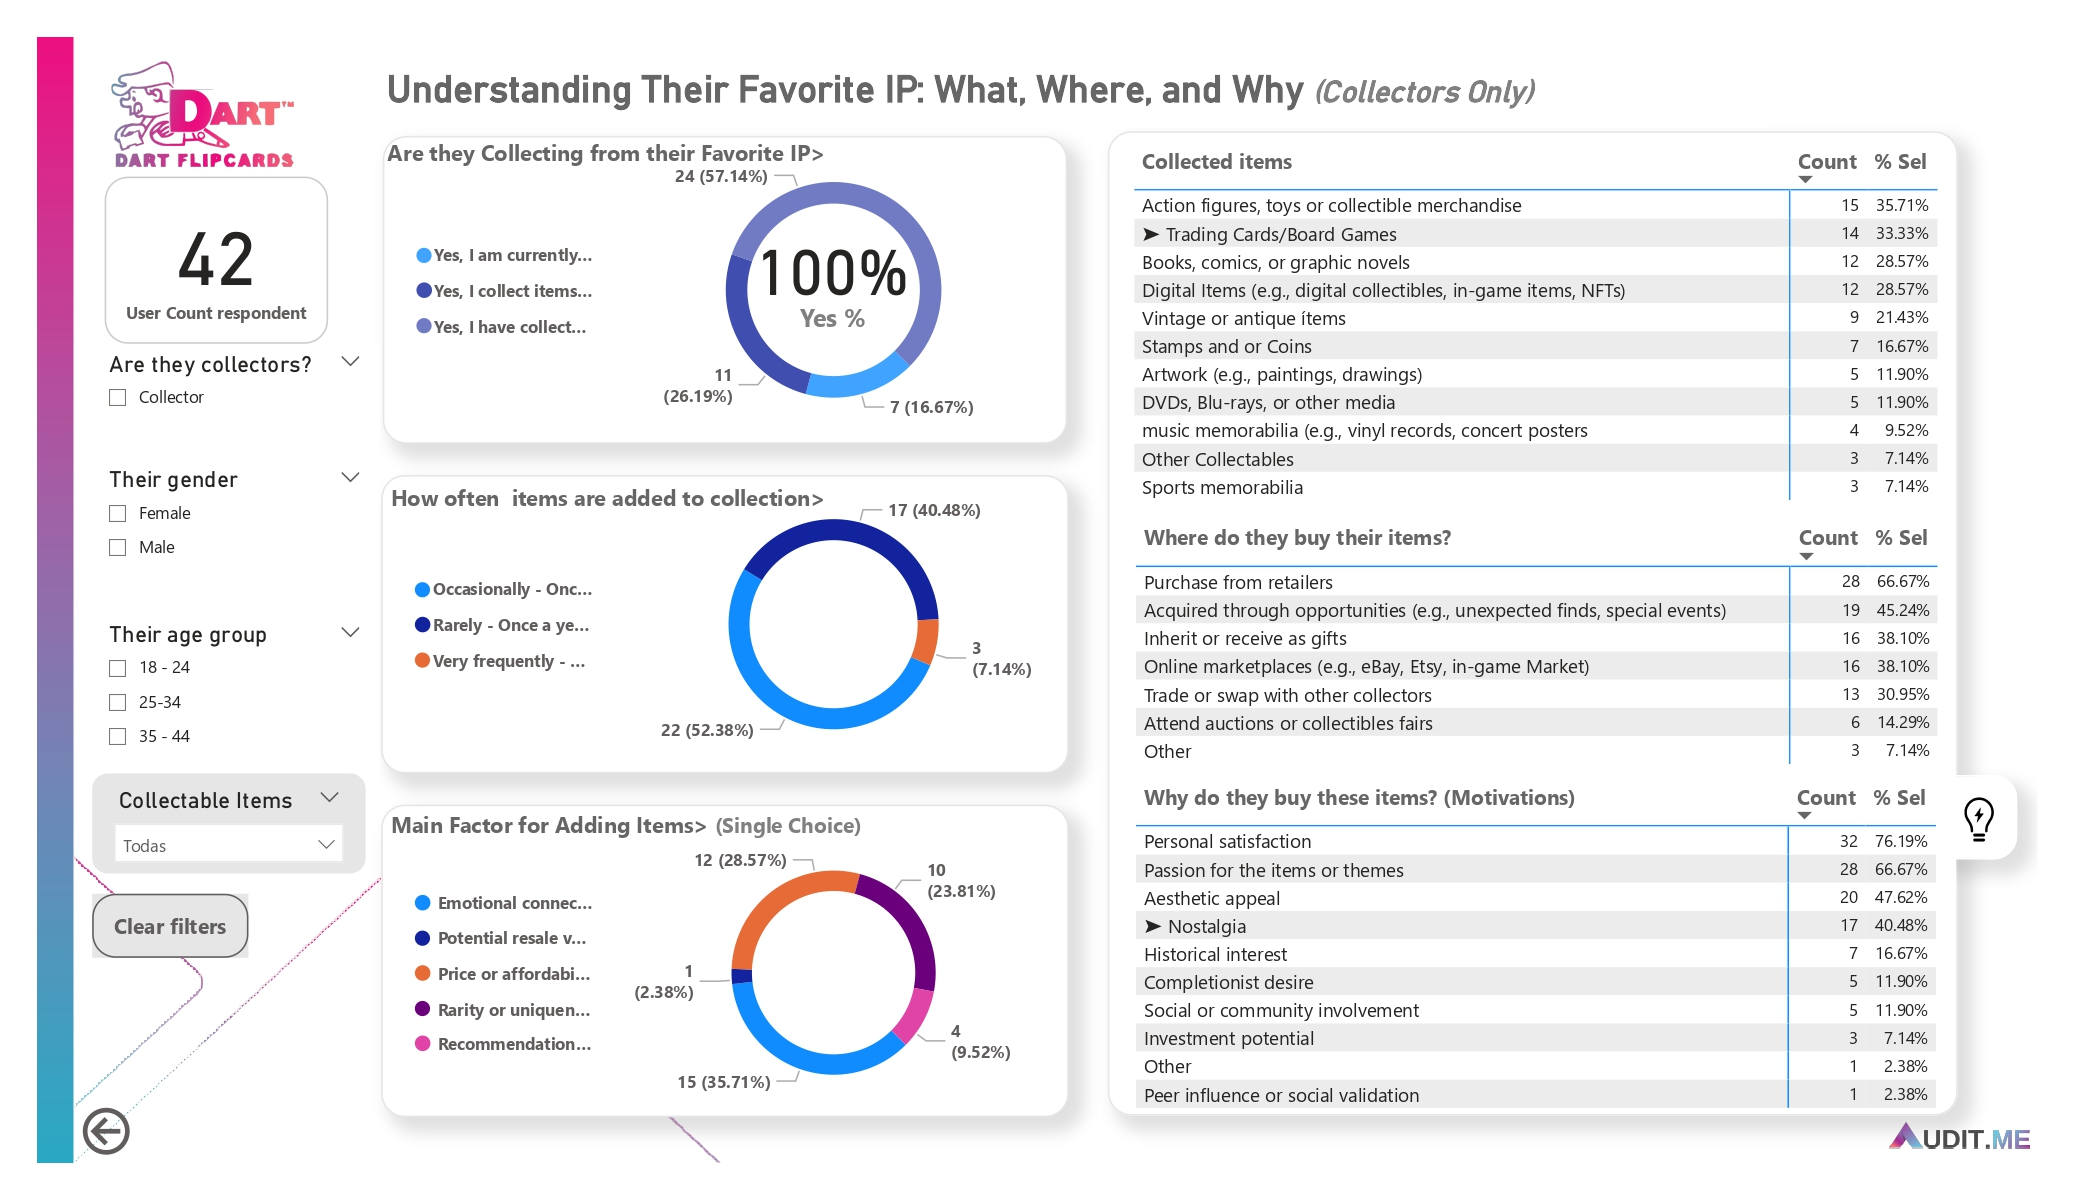

The page's visual inventory and layout, read from the dashboard file:
{"tool":"powerbi","page":{"name":"What/How/Why they Collect","canvas":[1280,720],"ordinal":3},"visuals":[{"type":"donutChart","fields":{"Y":["CountNonNull(Raw Data-Original.Have you ever engaged in collecting items or objects? If so, please select the option tha"],"Series":["Raw Data-Original.Have you ever engaged in collecting items or objects? If so, please select the option that best descri"]},"box":[221.4,62.9,437.1,197.1],"z":0},{"type":"donutChart","fields":{"Series":["Raw Data-Original.Q21-frequency of adding"],"Y":["CountNonNull(Raw Data-Original.Q21-frequency of adding)"]},"box":[220,280,440,191.4],"z":1000},{"type":"shape","box":[684.5,59.5,544.1,631],"z":2000},{"type":"slicer","fields":{"Values":["Raw Data-Original.Gender"]},"box":[32.5,270,186.2,98.8],"z":3000},{"type":"slicer","fields":{"Values":["Raw Data-Original.Q2-Age Group"]},"box":[32.5,368.8,186.2,116.2],"z":4000},{"type":"slicer","fields":{"Values":["Raw Data-Original.Collector habits"]},"box":[32.5,196.2,186.2,73.8],"z":5000},{"type":"actionButton","box":[23.8,680,100,40],"z":6000},{"type":"card","fields":{"Values":["Raw Data-Original.User Count respondent"]},"box":[42.5,89.5,143.8,106.2],"z":7000},{"type":"image","box":[1180,683.8,100,36.2],"z":8000},{"type":"textbox","box":[219,14.3,889.3,44],"z":9000},{"type":"image","box":[0,0,210,97.5],"z":10000},{"type":"textbox","box":[218.8,58.8,353.8,31.2],"z":11000},{"type":"actionButton","box":[34.5,547.6,100,41.7],"z":12000},{"type":"pivotTable","fields":{"Rows":["Raw Data.Collected items"],"Values":["Raw Data.Count what collect","Raw Data.Buy %"]},"box":[697.1,64.3,531.4,244.3],"z":13000},{"type":"pivotTable","fields":{"Values":["Where the adquire item-Data.Count Where Buy Item","Where the adquire item-Data.where they buy %"],"Rows":["Where the adquire item-Data.Where they Buy their Items"]},"box":[697.6,304.8,531,167.9],"z":14000},{"type":"textbox","box":[464.3,162.9,90,32.9],"z":15000},{"type":"card","title":"Yes ","fields":{"Values":["Raw Data-Original.HaveUcollect"]},"box":[440.5,117.4,135.7,57.1],"z":16000},{"type":"donutChart","fields":{"Y":["CountNonNull(Raw Data-Original.Q22_VALUE 4 Item)"],"Series":["Raw Data-Original.Q22_VALUE 4 Item"]},"box":[220,491.4,440,200],"z":17000},{"type":"textbox","box":[221.4,280,438.6,31.4],"z":18000},{"type":"textbox","box":[221.4,488.6,354.3,31.4],"z":19000},{"type":"shape","box":[1205.2,472,61.4,54.3],"z":20000},{"type":"image","box":[1216.7,479.6,50,42.9],"z":21000},{"type":"shape","box":[1205.2,469.1,22.9,78.6],"z":22000},{"type":"pivotTable","fields":{"Rows":["What Motivations Collect-Data.Motivations"],"Values":["What Motivations Collect-Data.Count motivation","What Motivations Collect-Data.Motivation%"]},"box":[697.6,471.4,532.1,220.2],"z":23000},{"type":"slicer","fields":{"Values":["CollectedItems-Data.Collected Items"]},"box":[34.5,471.4,175,63.1],"z":24000}]}

Visuals, with their boxes on the page's 1280x720 design canvas (x1, y1, x2, y2). These are canvas units, not pixel positions in the 2075x1200 screenshot, which may show the page scaled, cropped or inside an application window:
donutChart - CountNonNull(Raw Data-Original.Have you ever engaged in collecting items or objects? If so, please select the option tha x Raw Data-Original.Have you ever engaged in collecting items or objects? If so, please select the option that best descri: 221, 63, 658, 260
donutChart - Raw Data-Original.Q21-frequency of adding x CountNonNull(Raw Data-Original.Q21-frequency of adding): 220, 280, 660, 471
shape: 684, 60, 1229, 690
slicer - Raw Data-Original.Gender: 32, 270, 219, 369
slicer - Raw Data-Original.Q2-Age Group: 32, 369, 219, 485
slicer - Raw Data-Original.Collector habits: 32, 196, 219, 270
actionButton: 24, 680, 124, 720
card - Raw Data-Original.User Count respondent: 42, 90, 186, 196
image: 1180, 684, 1280, 720
textbox: 219, 14, 1108, 58
image: 0, 0, 210, 98
textbox: 219, 59, 573, 90
actionButton: 34, 548, 134, 589
pivotTable - Raw Data.Collected items x Raw Data.Count what collect: 697, 64, 1228, 309
pivotTable - Where the adquire item-Data.Count Where Buy Item x Where the adquire item-Data.where they buy %: 698, 305, 1229, 473
textbox: 464, 163, 554, 196
"Yes " card: 440, 117, 576, 174
donutChart - CountNonNull(Raw Data-Original.Q22_VALUE 4 Item) x Raw Data-Original.Q22_VALUE 4 Item: 220, 491, 660, 691
textbox: 221, 280, 660, 311
textbox: 221, 489, 576, 520
shape: 1205, 472, 1267, 526
image: 1217, 480, 1267, 522
shape: 1205, 469, 1228, 548
pivotTable - What Motivations Collect-Data.Motivations x What Motivations Collect-Data.Count motivation: 698, 471, 1230, 692
slicer - CollectedItems-Data.Collected Items: 34, 471, 210, 534
